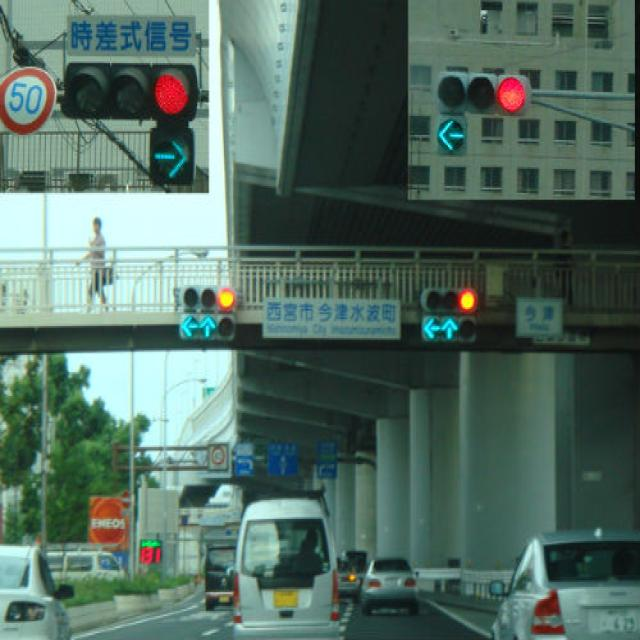red_light: (64, 63, 197, 117), (432, 65, 536, 119), (421, 292, 478, 318), (182, 288, 241, 312)
